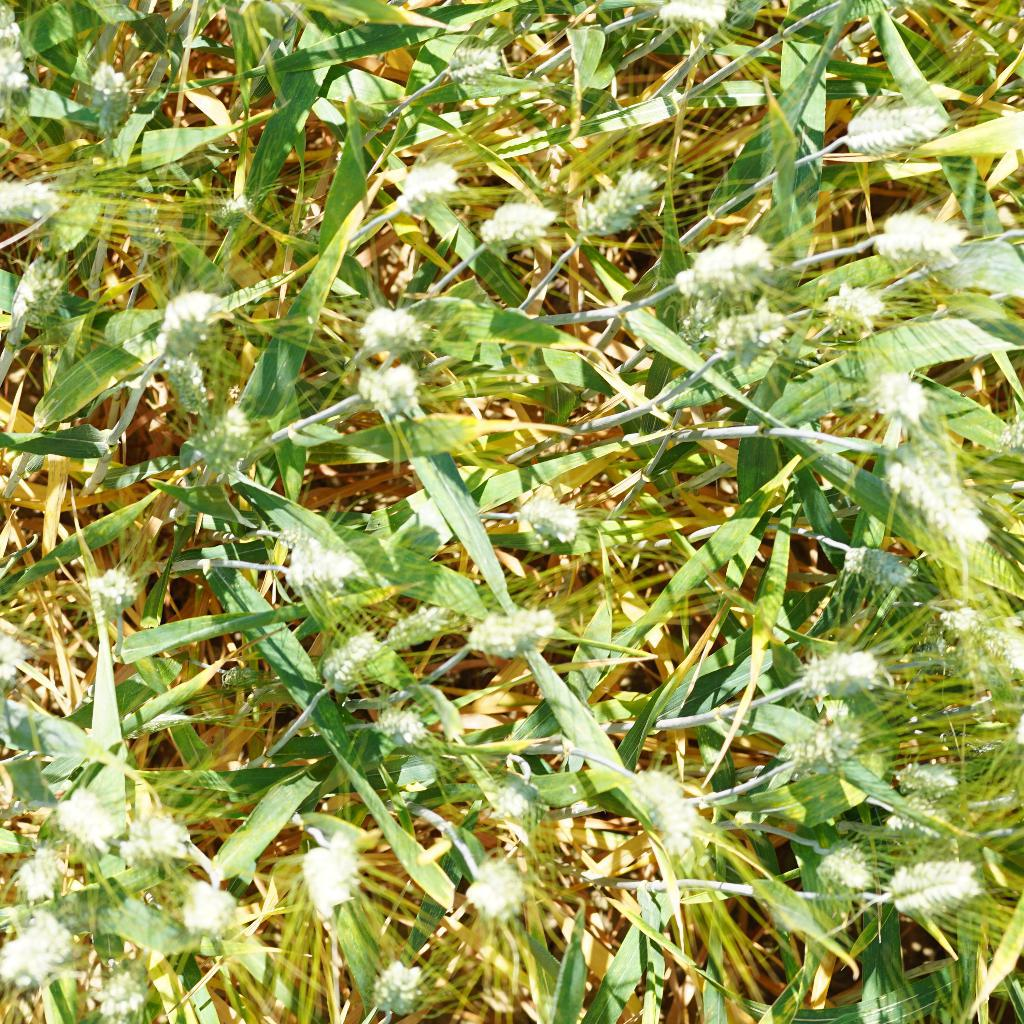0-0: (884, 445, 1008, 553), (284, 823, 373, 929), (617, 757, 702, 859), (139, 277, 245, 358), (0, 901, 90, 996), (665, 231, 785, 299), (10, 253, 86, 359), (829, 98, 952, 163), (567, 157, 658, 243), (858, 206, 968, 275), (873, 851, 989, 916), (452, 594, 557, 665), (441, 859, 535, 938), (262, 541, 367, 609), (702, 294, 791, 372), (780, 634, 884, 697), (310, 627, 388, 702), (185, 406, 266, 478), (788, 701, 862, 778), (118, 792, 197, 862), (478, 195, 561, 261), (346, 359, 440, 417), (167, 864, 246, 933), (838, 529, 925, 591), (49, 792, 131, 856), (478, 759, 561, 822), (864, 361, 937, 428), (14, 832, 78, 908), (798, 826, 871, 890), (153, 350, 220, 419), (810, 283, 896, 336), (377, 945, 437, 1020), (396, 156, 463, 223), (355, 302, 428, 363), (882, 747, 965, 800), (515, 489, 589, 548), (75, 59, 135, 131), (118, 191, 179, 261), (372, 699, 445, 757), (671, 287, 732, 356), (1, 6, 47, 96), (873, 800, 948, 854), (439, 31, 507, 90), (378, 602, 449, 657), (0, 167, 59, 232), (86, 561, 146, 624), (973, 609, 1021, 687), (94, 972, 163, 1024), (927, 589, 989, 645), (658, 0, 740, 41), (0, 621, 37, 690), (896, 629, 955, 666), (208, 187, 253, 235), (215, 663, 271, 687)
